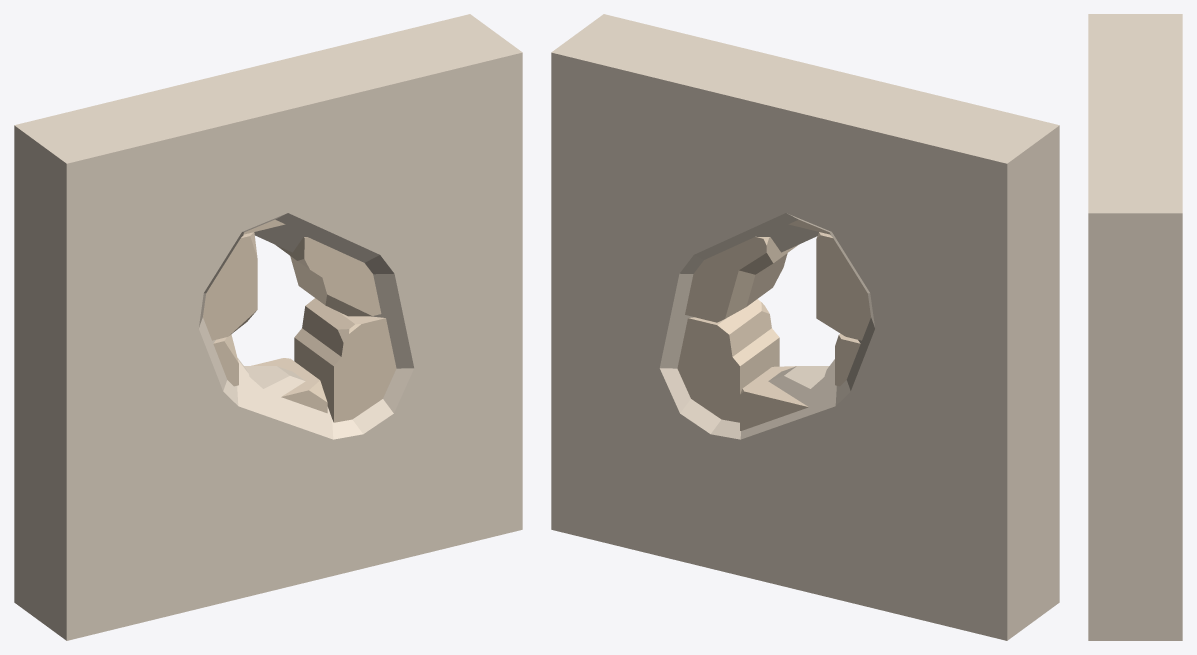
The model's file is Wall_Ruined_Full_2.glb.
3 views of the same model, side by side, from view 1: azimuth 30°, elevation 25°; view 2: azimuth 150°, elevation 25°; view 3: azimuth 270°, elevation 25° (orthographic). The views are drawn at different scales.
Parts seen in each view (by area): view 1: Wall_Ruined_Full_2; view 2: Wall_Ruined_Full_2; view 3: Wall_Ruined_Full_2.
Part boxes in pixels (x1=…): Wall_Ruined_Full_2: x1=14, y1=14, x2=522, y2=640; Wall_Ruined_Full_2: x1=551, y1=14, x2=1059, y2=640; Wall_Ruined_Full_2: x1=1088, y1=14, x2=1182, y2=640.
Size of the model in its own units: 1 by 1 by 0.2.
